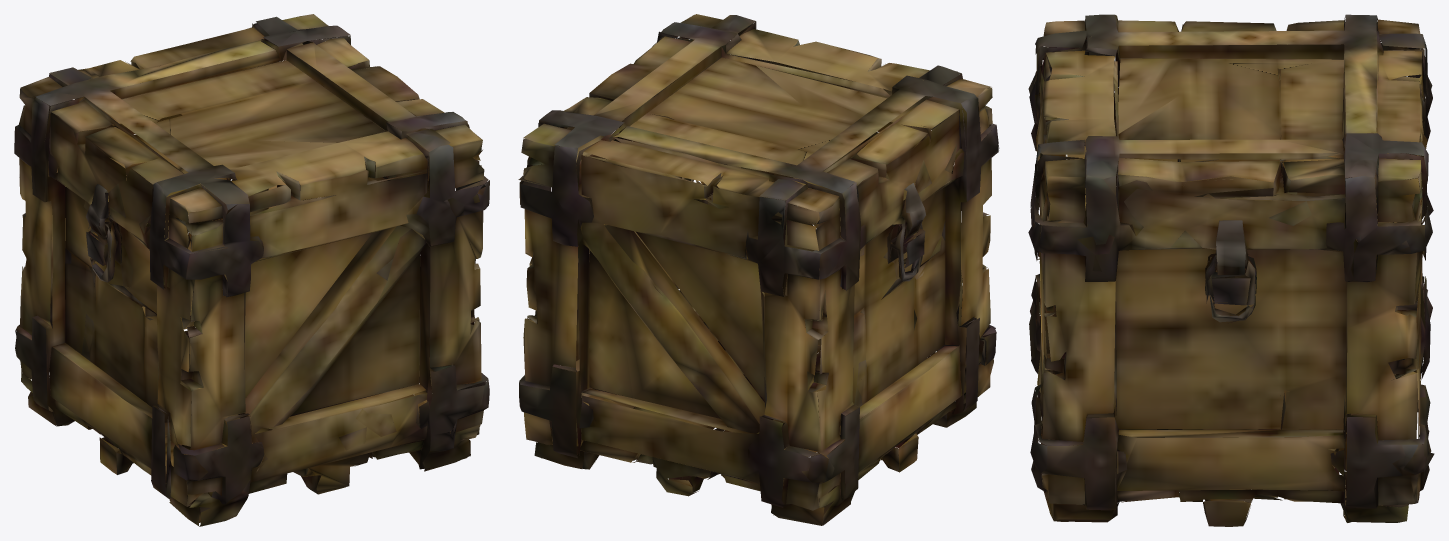
The model's file is cajon_grande.movil.glb.
3 views of the same model, side by side, from view 1: azimuth 30°, elevation 25°; view 2: azimuth 150°, elevation 25°; view 3: azimuth 270°, elevation 25° (orthographic). The views are drawn at different scales.
Parts seen in each view (by area): view 1: geometry_0; view 2: geometry_0; view 3: geometry_0.
Boxes of the visible parts, x1,y1,x2,y2 form: geometry_0: [14, 14, 489, 526]; geometry_0: [518, 14, 999, 525]; geometry_0: [1028, 14, 1434, 526].
Bounding box in the file's own units: 1.6 × 1.59 × 1.61.
1 material, 1 textured.
